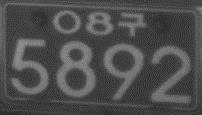0: (52, 8, 82, 35)
2: (150, 43, 192, 104)
5: (10, 38, 48, 96)
8: (55, 39, 97, 98), (85, 10, 114, 36)
9: (101, 41, 145, 101)
구: (117, 10, 147, 38)
